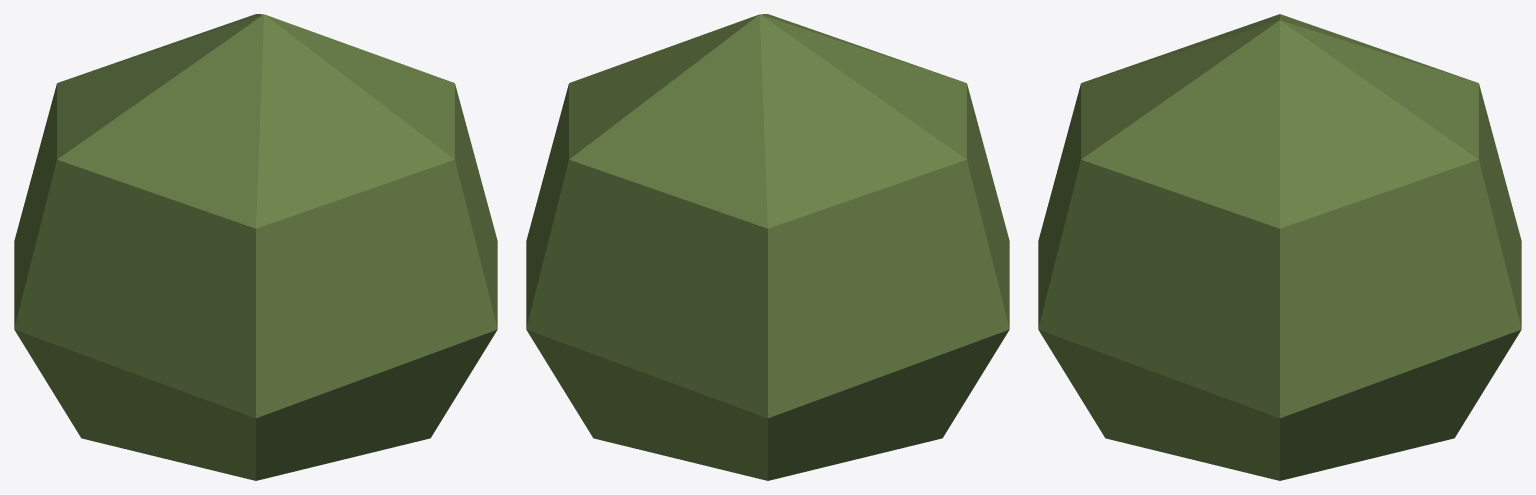
File: SM_Env_Generic_Bush_01.glb
3 renders of one model, left to right at view 1: azimuth 30°, elevation 25°; view 2: azimuth 150°, elevation 25°; view 3: azimuth 270°, elevation 25°, orthographic.
Parts seen in each view (by area): view 1: SM_Env_Generic_Bush_01; view 2: SM_Env_Generic_Bush_01; view 3: SM_Env_Generic_Bush_01.
Part boxes in pixels (x1,y1,x2,y2): SM_Env_Generic_Bush_01: (14, 14, 497, 480); SM_Env_Generic_Bush_01: (526, 14, 1009, 480); SM_Env_Generic_Bush_01: (1038, 14, 1521, 480).
Bounding box in the file's own units: 0.3236 × 0.2721 × 0.2803.
Materials: 1 (1 with a texture image).
